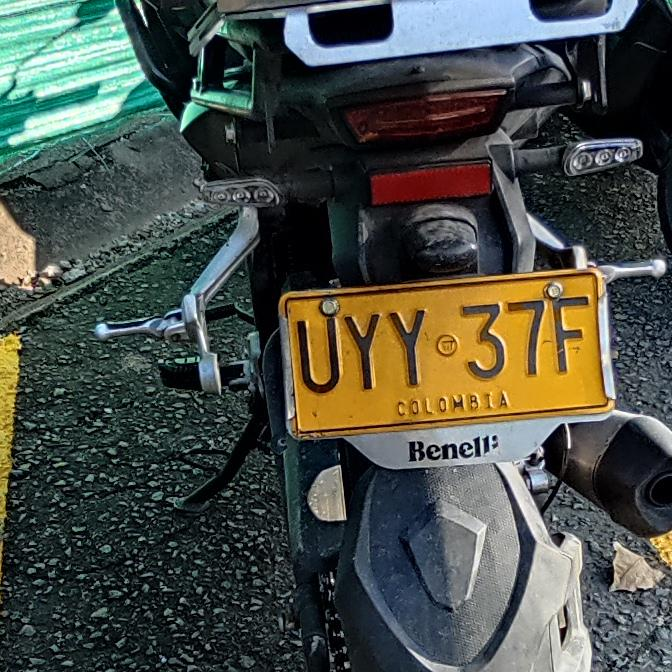plates: (277, 272, 605, 434)
